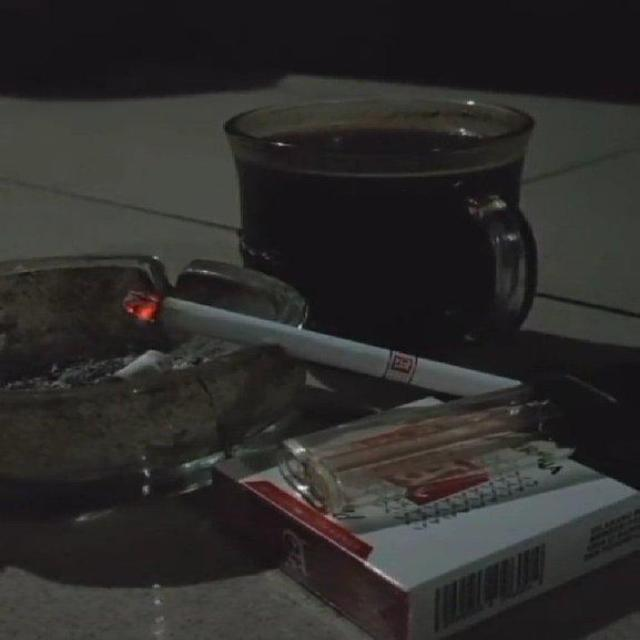rokok: (119, 282, 524, 400)
